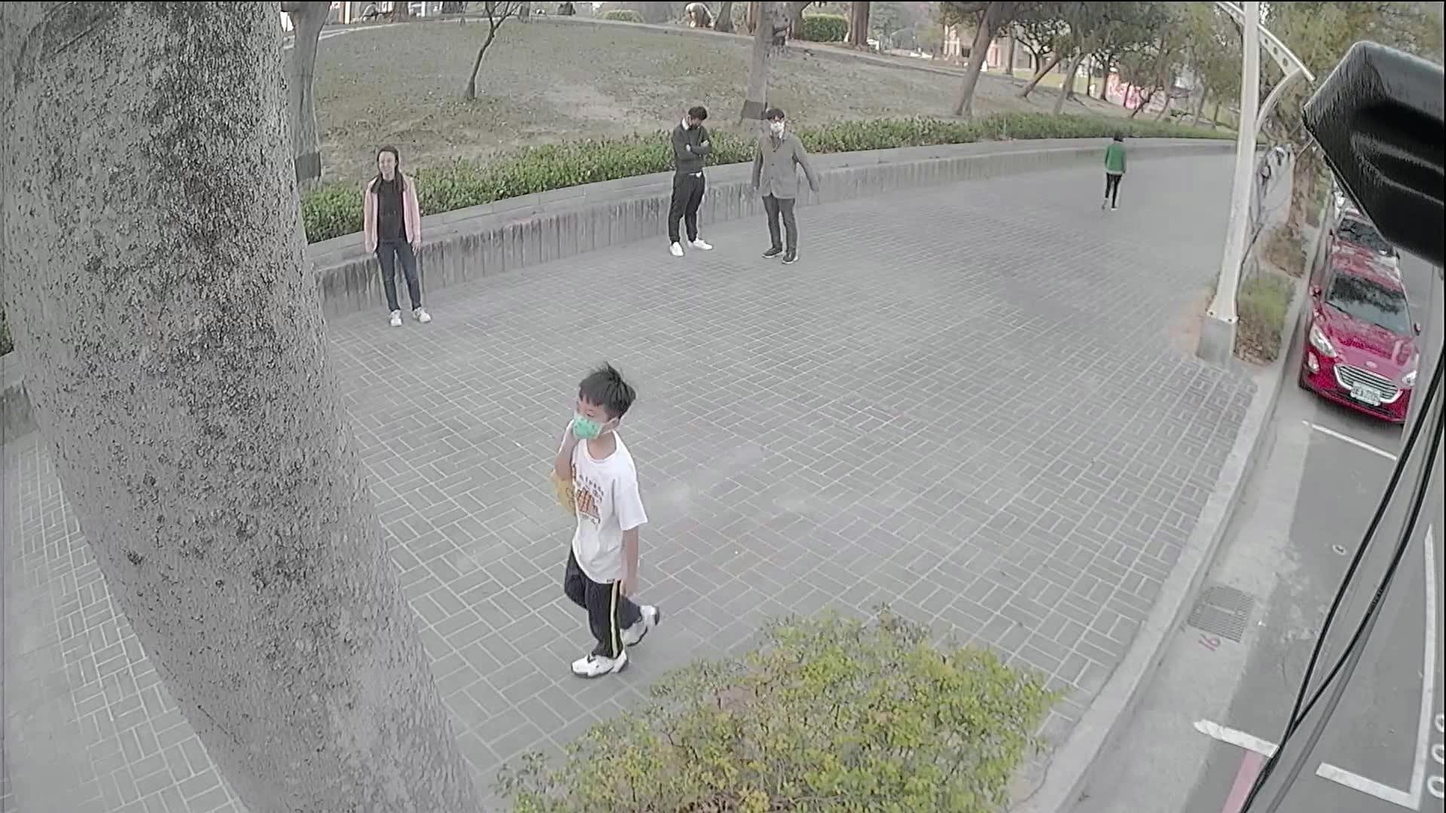person: (548, 362, 657, 677), (362, 147, 420, 321), (754, 107, 809, 262), (669, 104, 715, 251), (1100, 131, 1126, 209)
